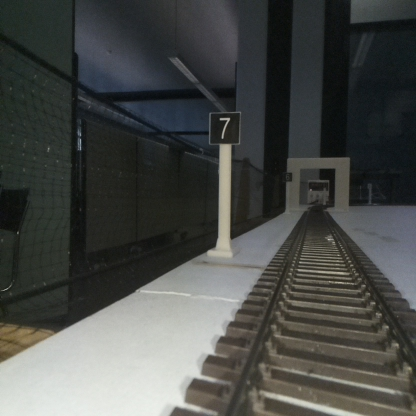black-info-6: (283, 172, 292, 213)
black-info-7: (210, 111, 239, 255)
